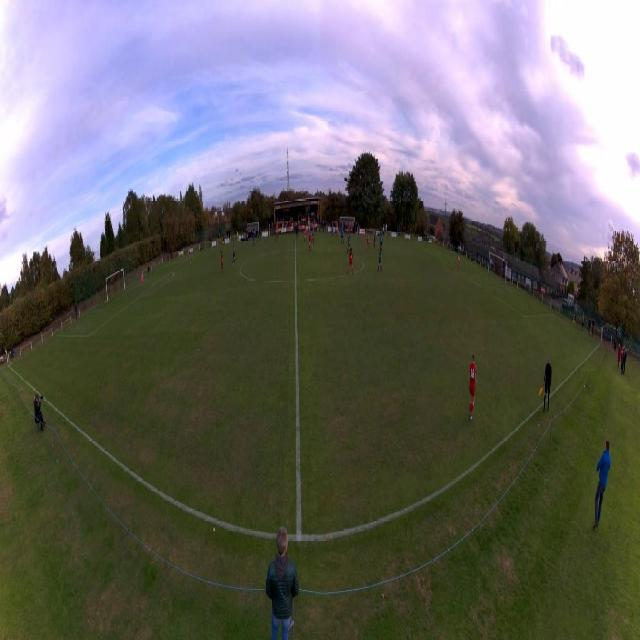ball: (190, 260, 191, 264)
player: (468, 352, 477, 423), (347, 247, 354, 275), (376, 248, 382, 272), (232, 244, 236, 268), (308, 229, 312, 251), (346, 233, 350, 255), (340, 225, 344, 244), (304, 225, 308, 243), (311, 226, 315, 244), (357, 225, 361, 242), (220, 251, 223, 273), (366, 232, 369, 252), (457, 256, 461, 270), (295, 222, 298, 240), (380, 234, 383, 250), (253, 231, 256, 247), (331, 223, 334, 238), (141, 273, 144, 287), (275, 225, 278, 239), (335, 223, 338, 237), (374, 232, 376, 249), (372, 231, 374, 248), (189, 250, 191, 262)
